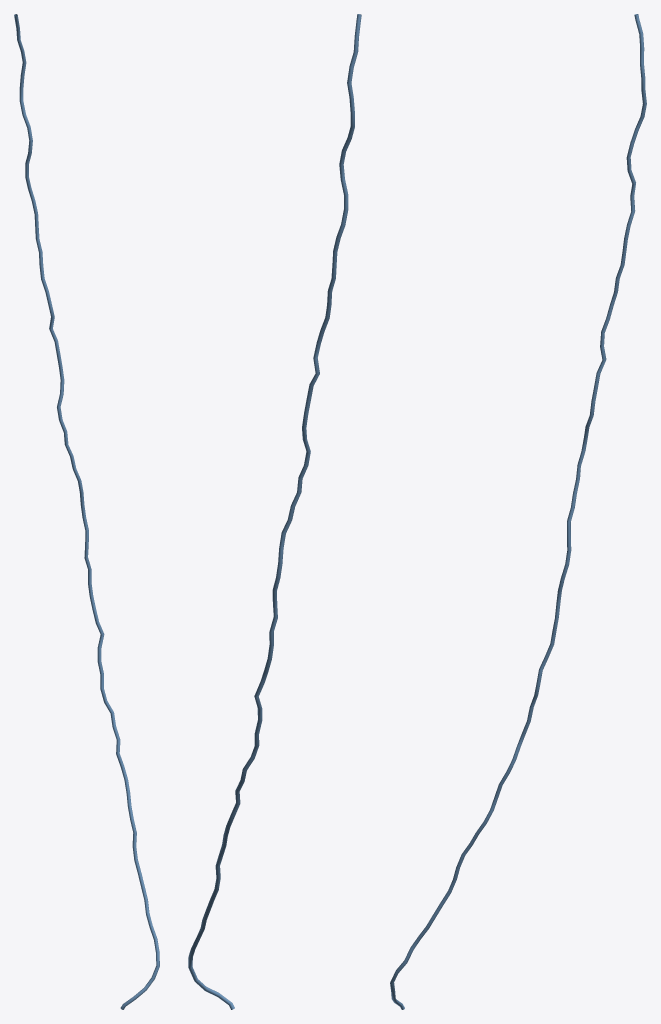
File: sweep309.fbx
3 renders of one model, left to right at view 1: azimuth 30°, elevation 25°; view 2: azimuth 210°, elevation 25°; view 3: azimuth 270°, elevation 25°, orthographic. The views are drawn at different scales.
Visible parts, largest first — view 1: sweep309; view 2: sweep309; view 3: sweep309.
Part boxes in pixels (left/top/right/bottom): sweep309: left=14, top=14, right=159, bottom=1009; sweep309: left=188, top=14, right=361, bottom=1009; sweep309: left=390, top=14, right=646, bottom=1009.
Size of the model in its own units: 0.2783 by 5.35 by 1.25.
